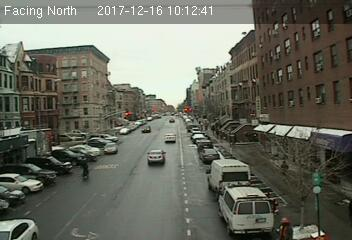bicycle: (78, 156, 91, 181)
car: (145, 149, 165, 164), (200, 148, 219, 163), (104, 142, 118, 154), (164, 132, 177, 142)
police: (217, 182, 273, 233)
truck: (205, 157, 252, 196)
